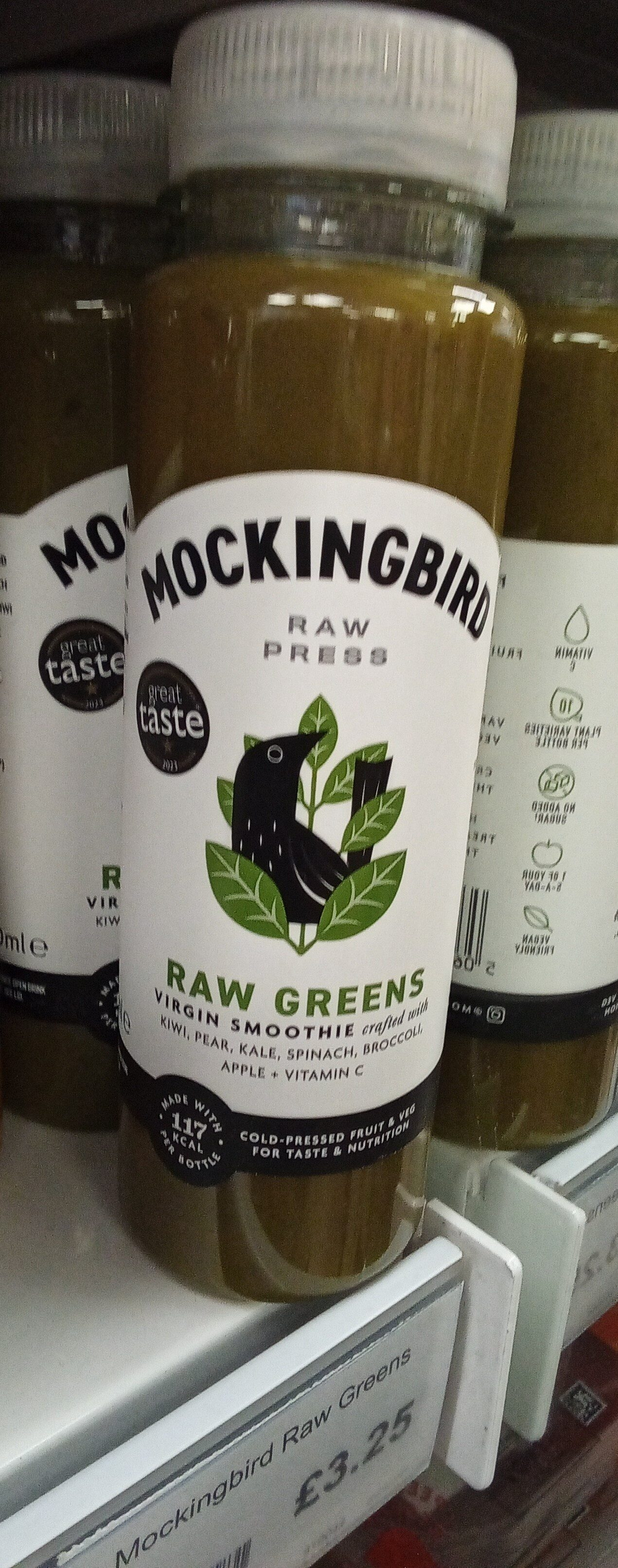Mockingbird Raw greens smoothie: (31, 78, 587, 1490)
